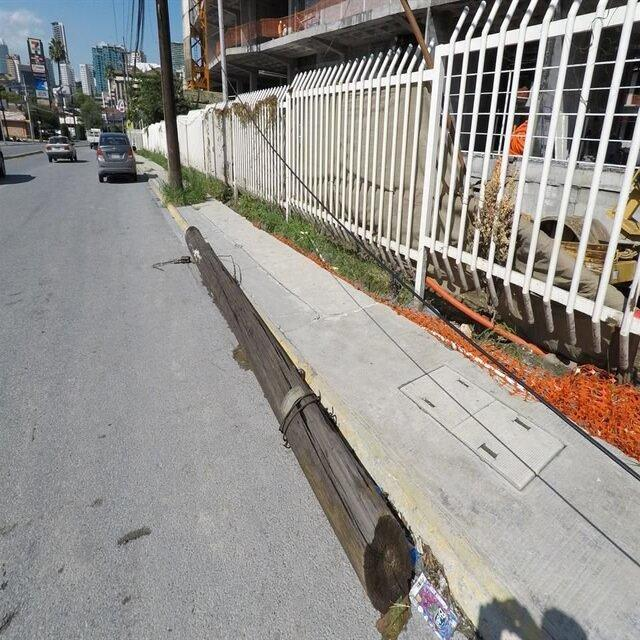Inclined Pole: (180, 224, 415, 617)
